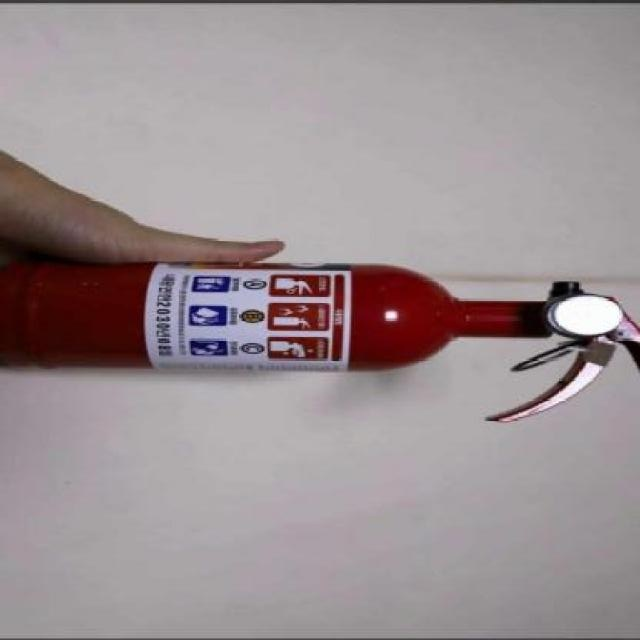fire extinguisher: (0, 260, 640, 423)
